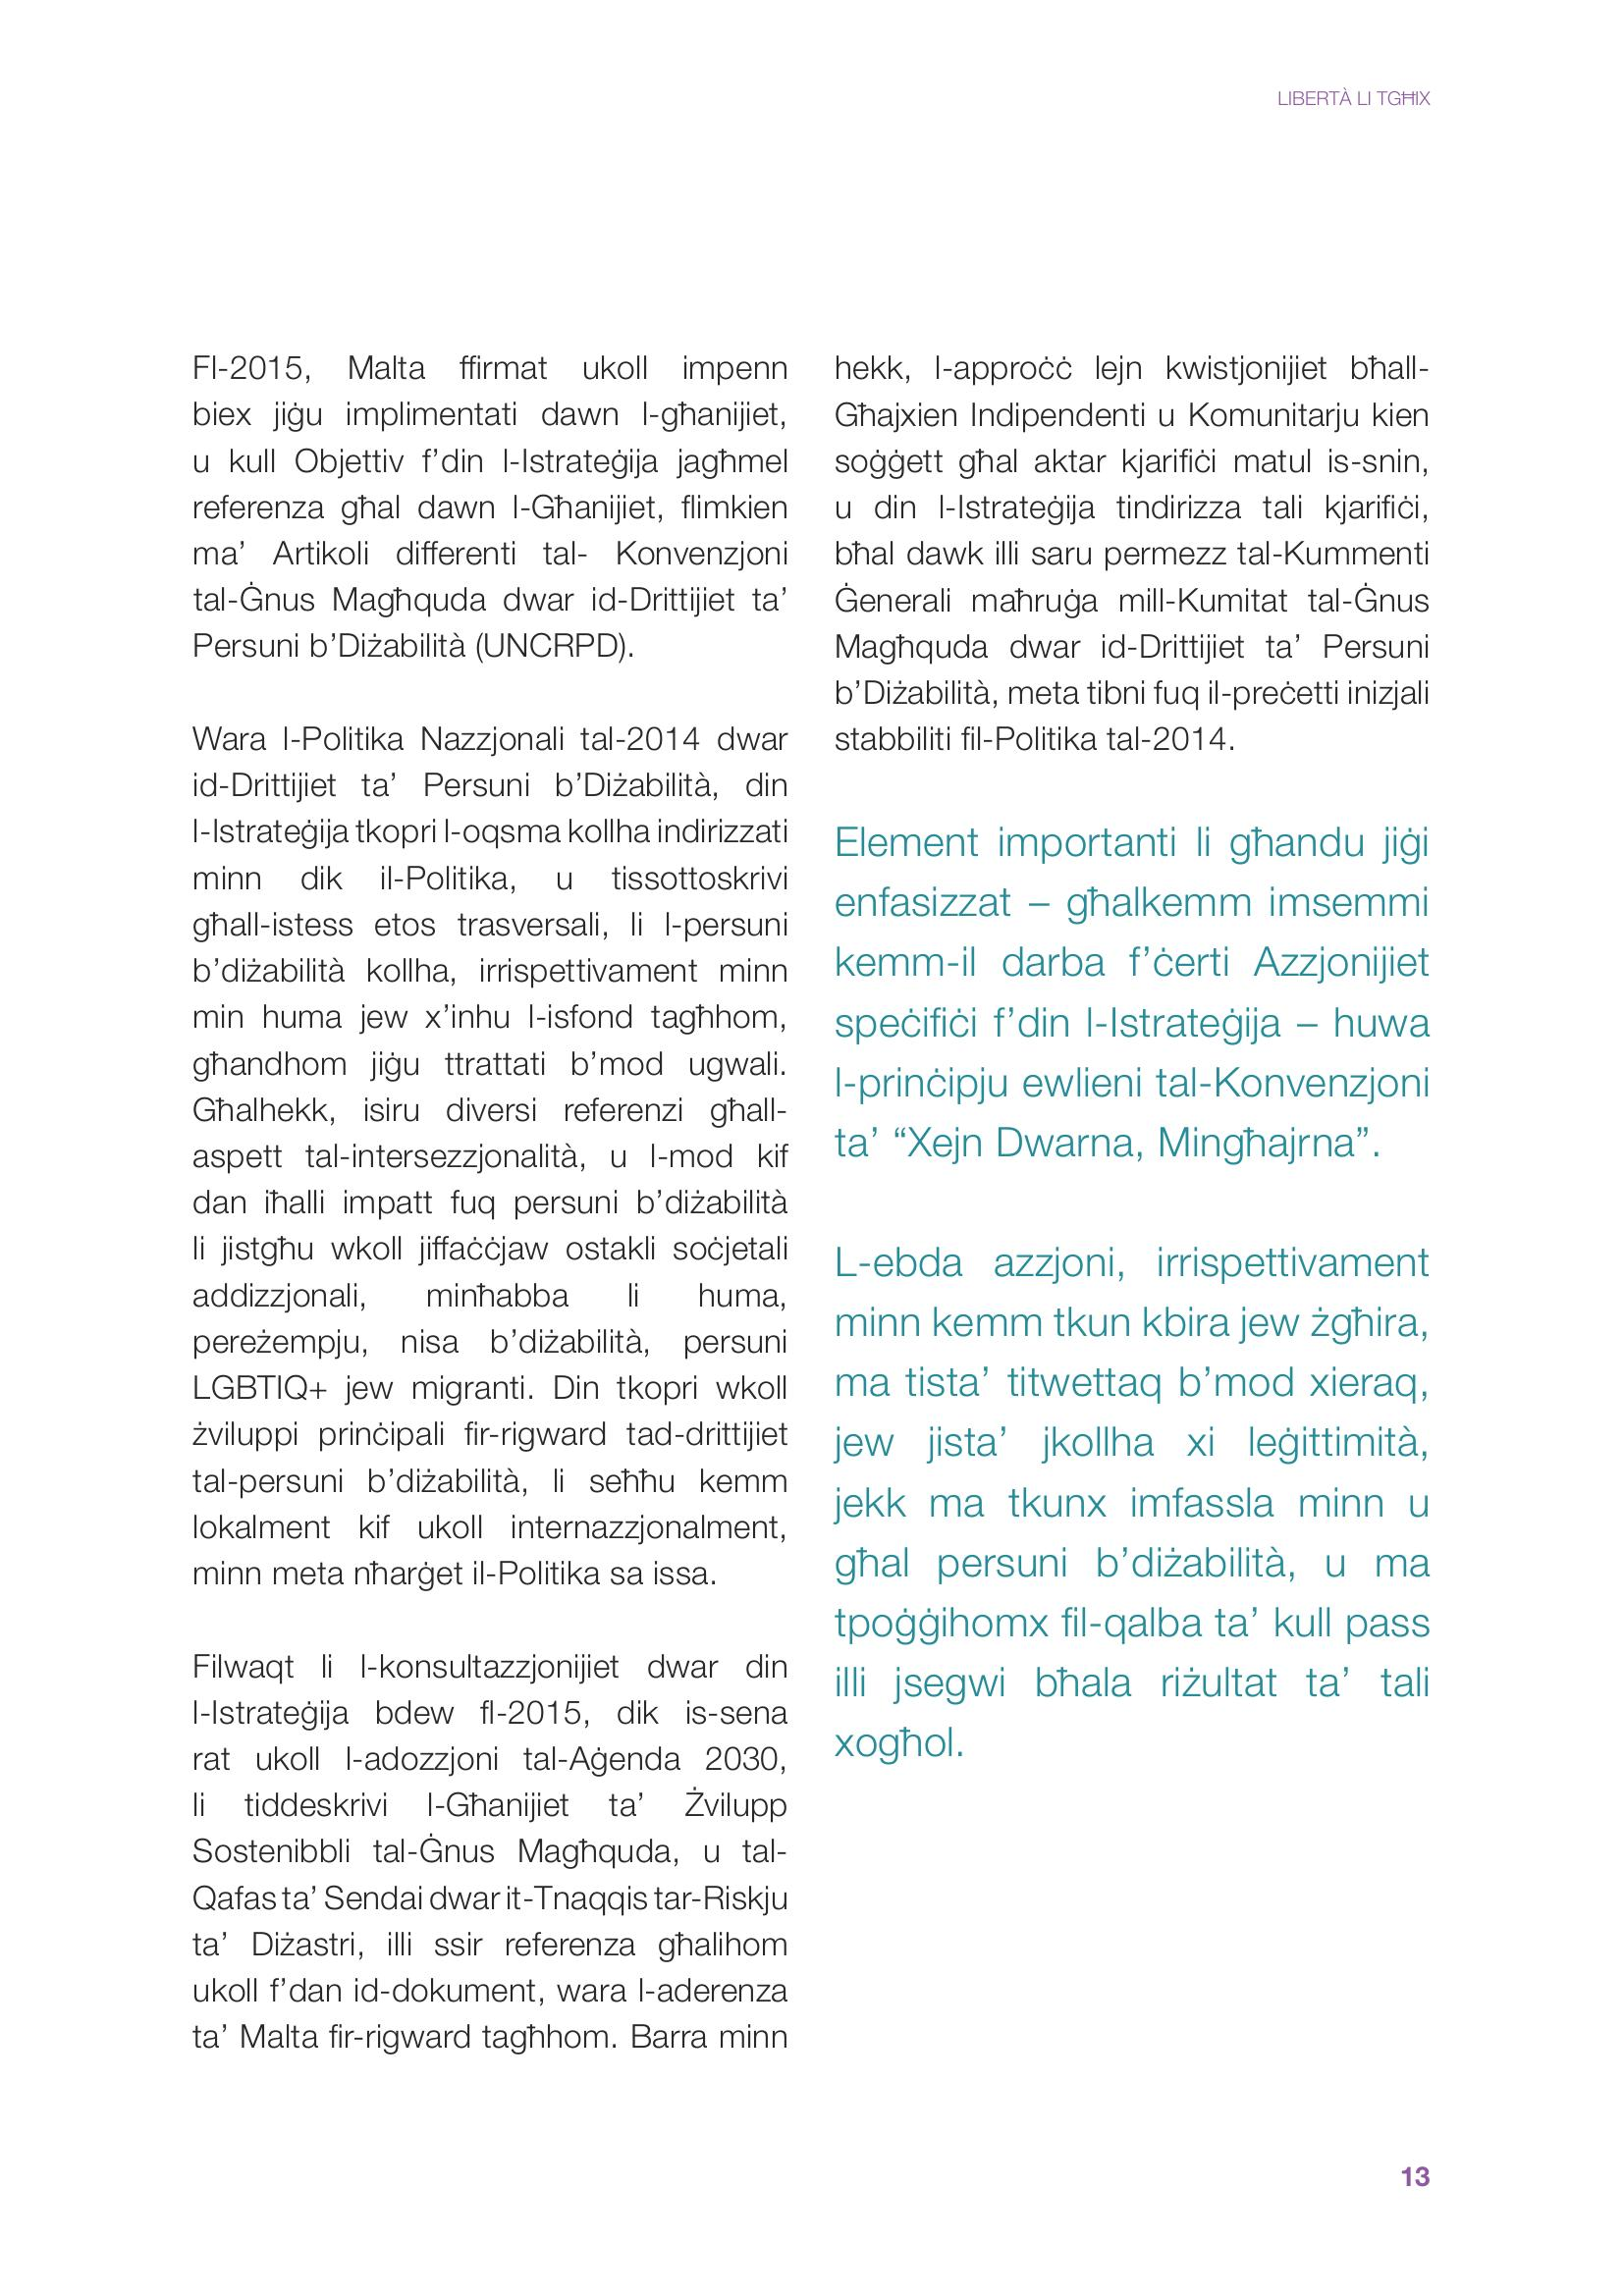text: (160, 339, 801, 2110), (821, 330, 1455, 1813)
